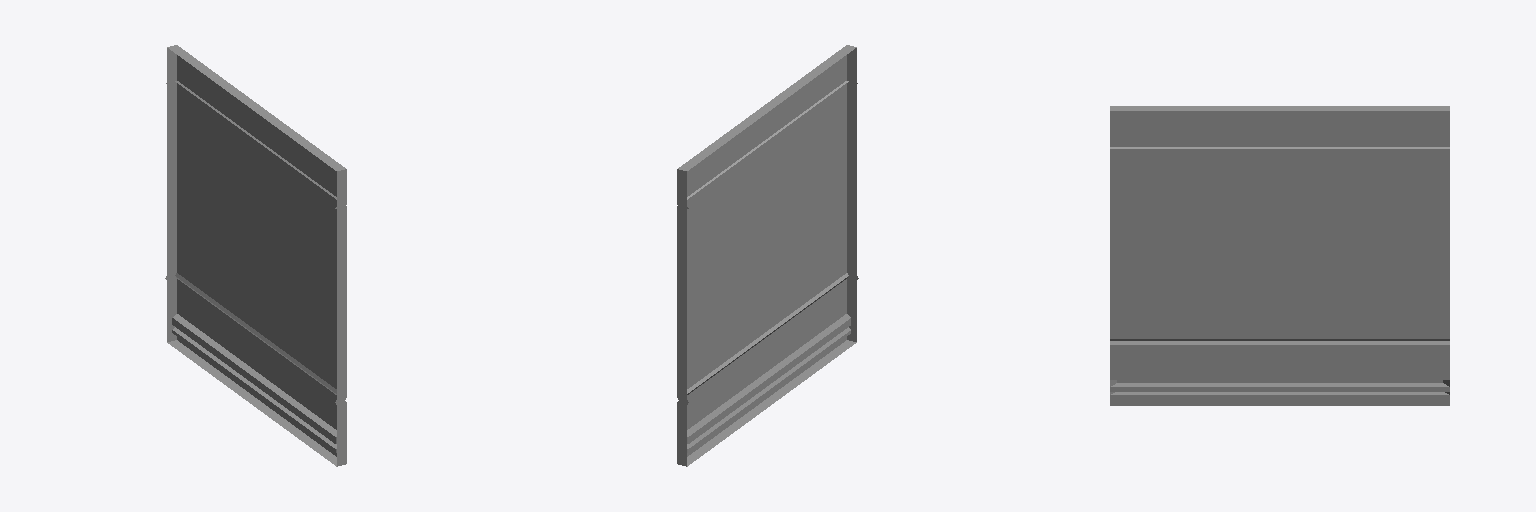
Rendered from oven.obj.
3 renders of one model, left to right at view 1: azimuth 30°, elevation 25°; view 2: azimuth 150°, elevation 25°; view 3: azimuth 270°, elevation 25°, orthographic.
Parts seen in each view (by area): view 1: Vert.022_Vert.021; view 2: Vert.022_Vert.021; view 3: Vert.022_Vert.021.
Boxes of the visible parts, box(x1,y1,x2,y2) form: Vert.022_Vert.021: box(165, 45, 346, 466); Vert.022_Vert.021: box(677, 45, 858, 466); Vert.022_Vert.021: box(1110, 106, 1449, 405).
Size of the model in its own units: 0.0304 by 0.7303 by 0.762.